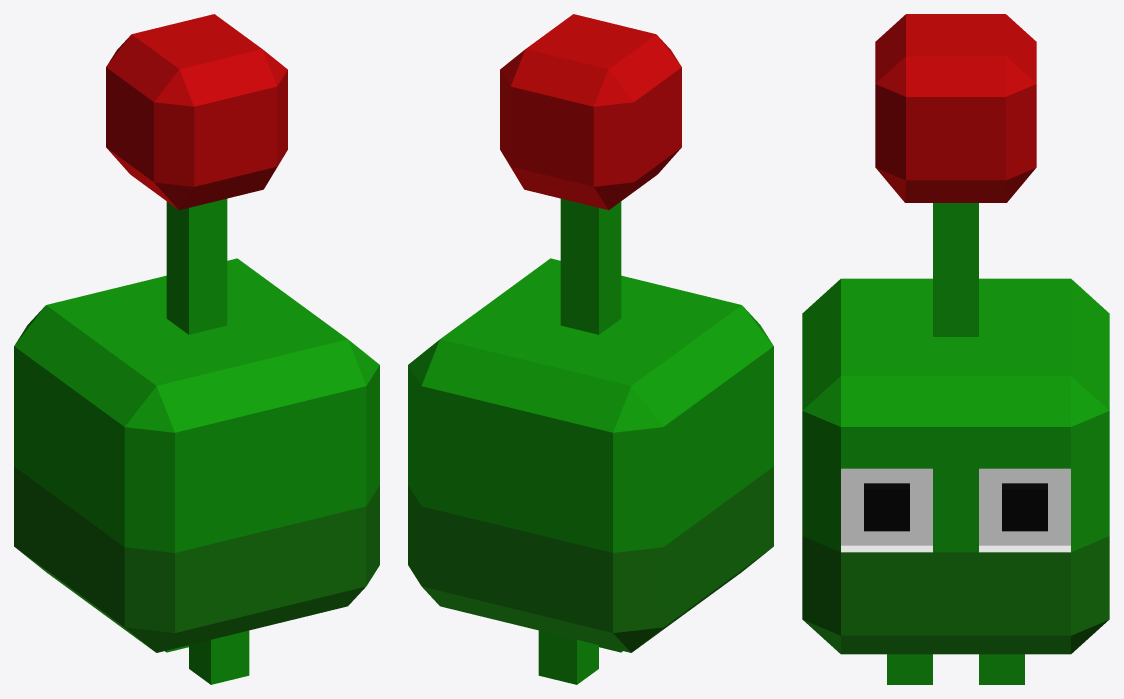
Rendered from Grass Enemy.fbx.
3 views of the same model, side by side, from view 1: azimuth 30°, elevation 25°; view 2: azimuth 150°, elevation 25°; view 3: azimuth 270°, elevation 25° (orthographic). The views are drawn at different scales.
Parts seen in each view (by area): view 1: Enemy; view 2: Enemy; view 3: Enemy.
Part boxes in pixels (x1,y1,x2,y2): Enemy: (14,14,379,684); Enemy: (408,14,773,684); Enemy: (802,14,1109,684).
Bounding box in the file's own units: 200 × 460 × 200.
